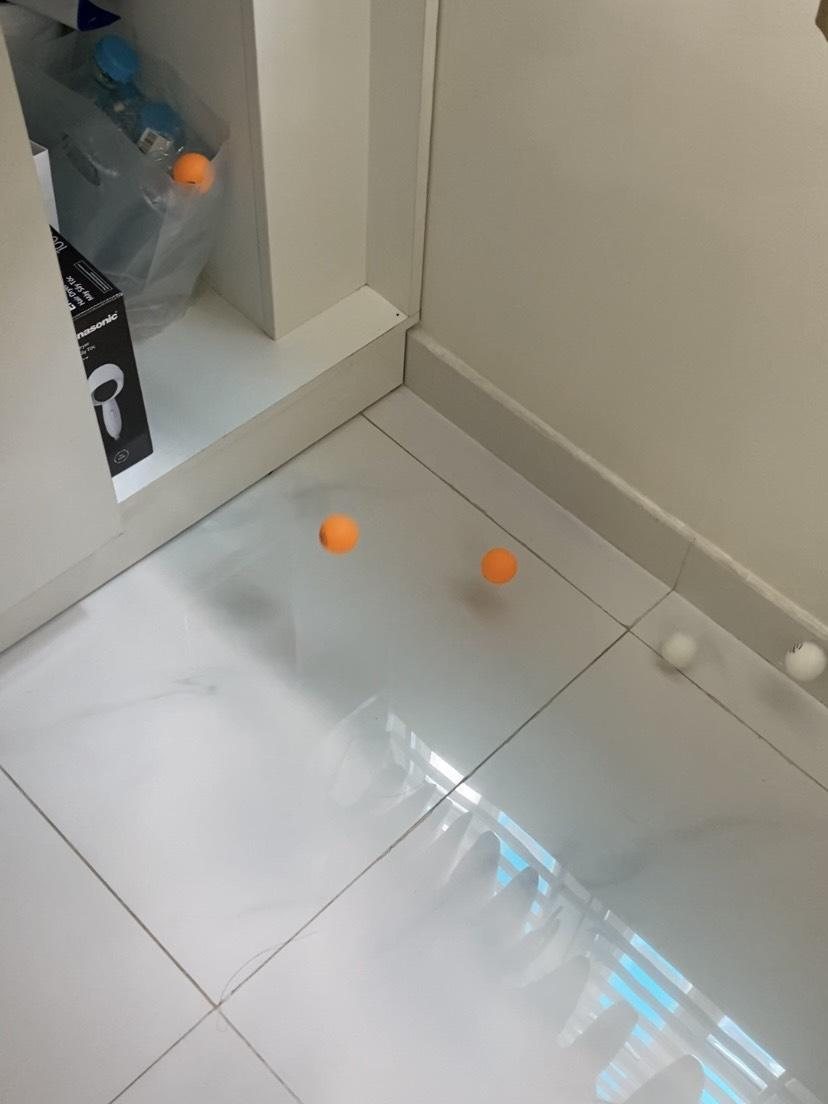oball: (173, 153, 215, 195), (320, 513, 357, 553), (480, 547, 518, 585)
